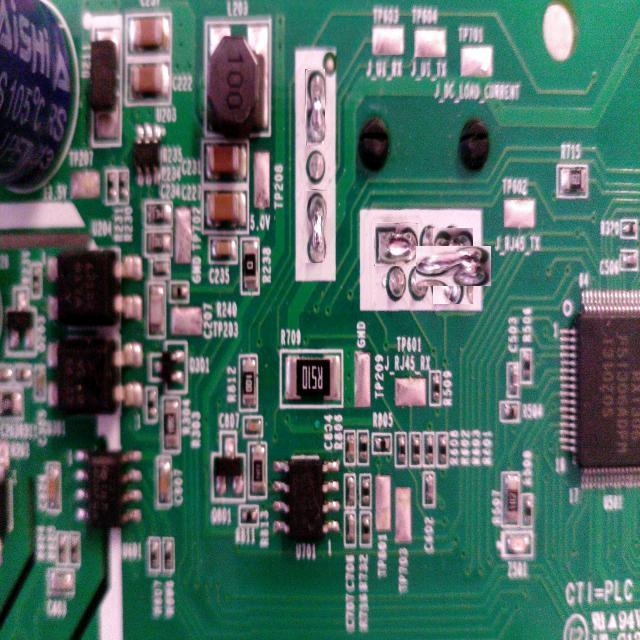Short_circuit: (424, 237, 482, 295), (374, 222, 418, 266), (303, 190, 327, 264), (306, 69, 326, 145)
